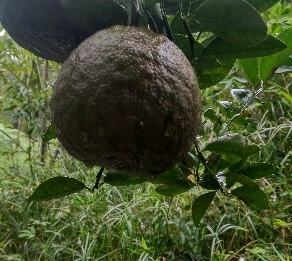Cam: (46, 23, 205, 178)
